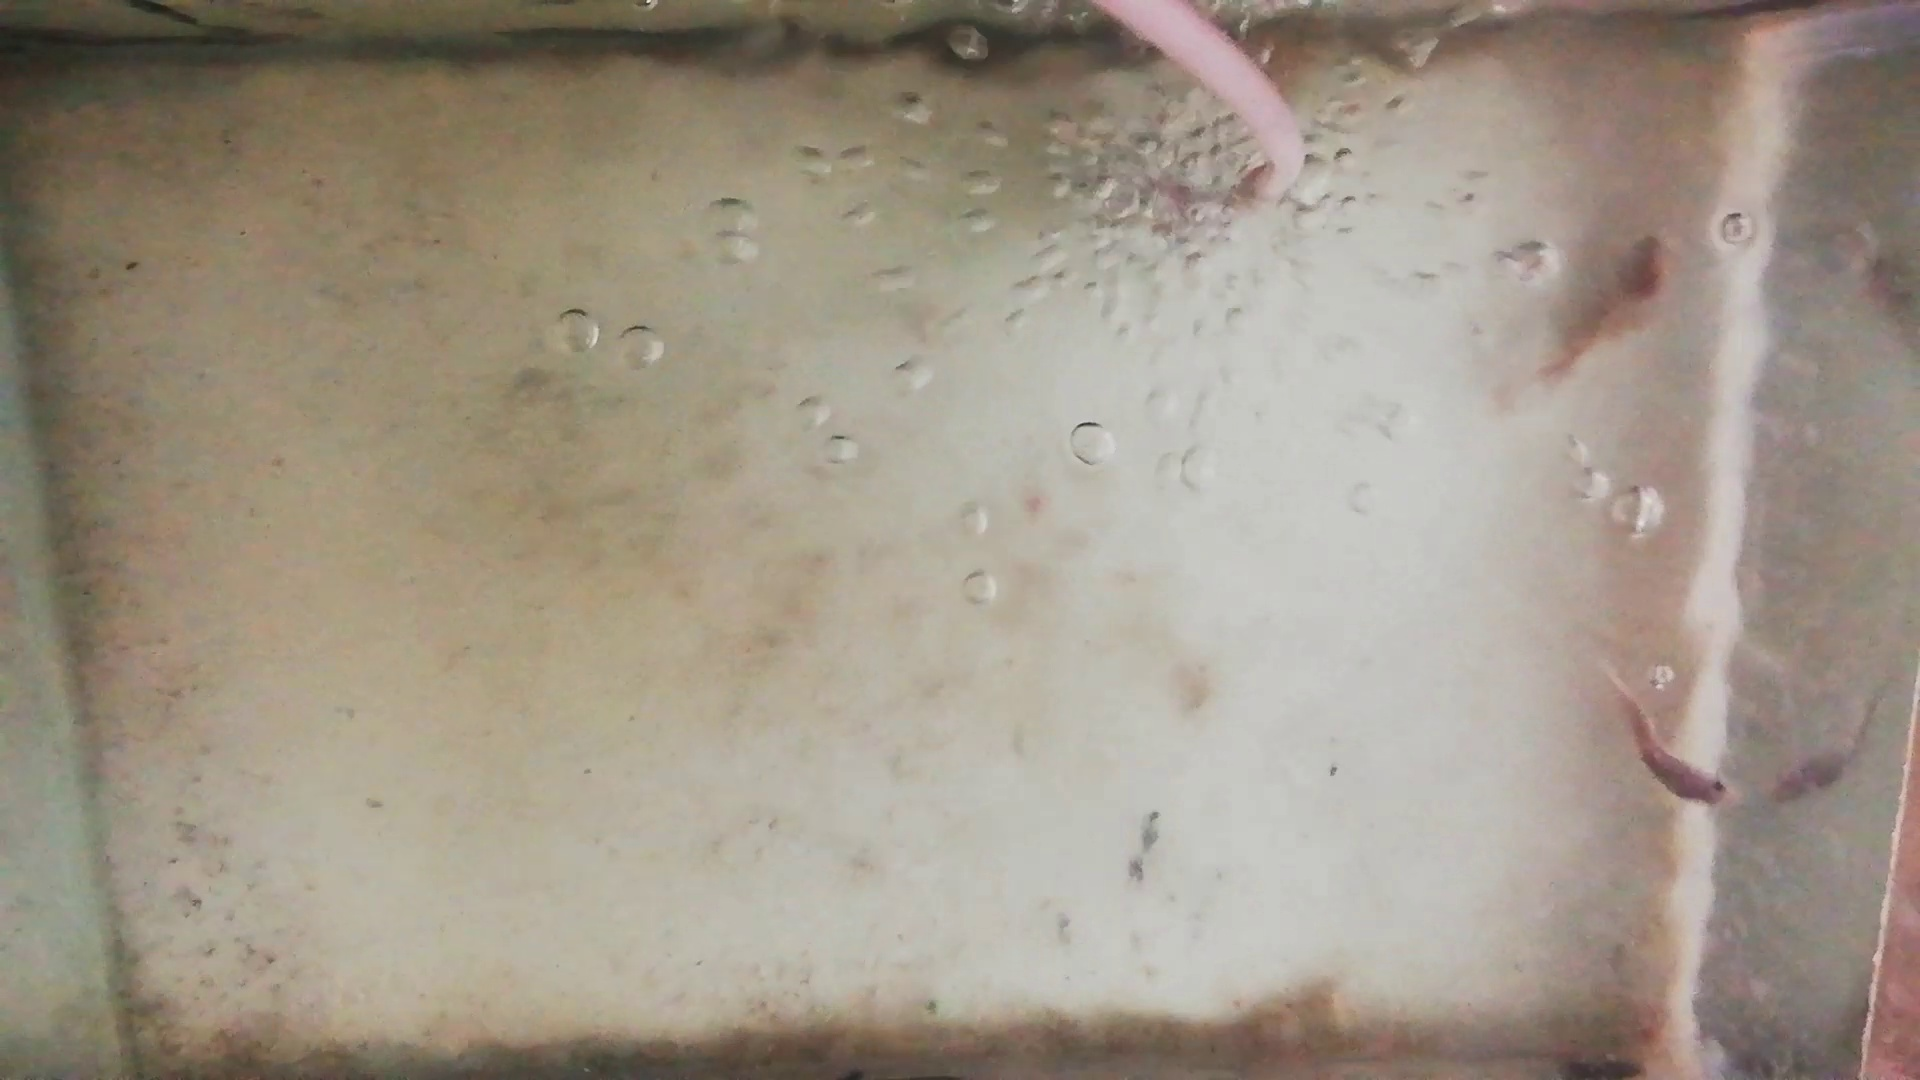fish: (1530, 233, 1673, 392), (1614, 684, 1739, 812)
